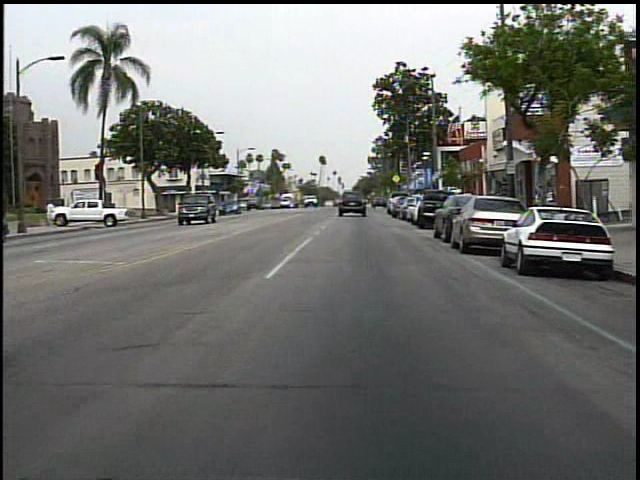person: (344, 188, 366, 219), (45, 198, 60, 226)
